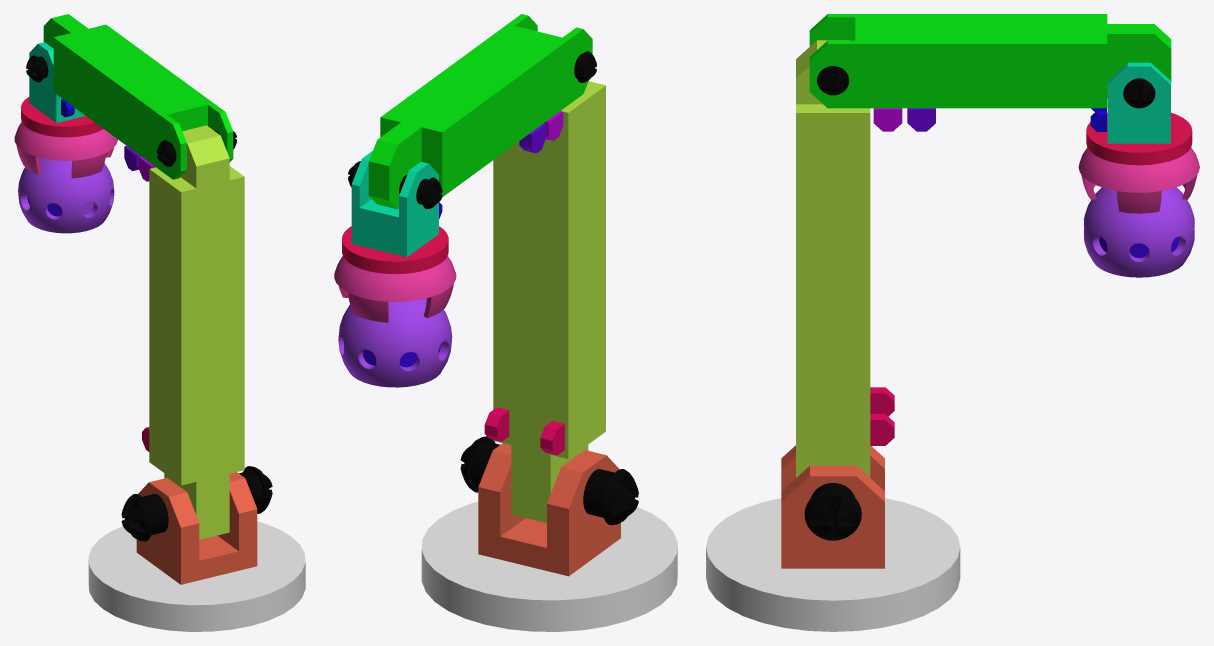
File: ARMMECH.fbx
The picture shows the model from 3 angles, left to right: view 1: azimuth 30°, elevation 25°; view 2: azimuth 150°, elevation 25°; view 3: azimuth 270°, elevation 25°; orthographic projection. The views are drawn at different scales.
Visible parts, largest first — view 1: Cube, Plane.001, Circle, Plane, Sphere, Circle.002, Cylinder, Plane.002, Circle.001, Cylinder.005, Cylinder.006; view 2: Cube, Plane.001, Circle, Plane, Sphere, Plane.002, Circle.002, Cylinder, Circle.001, Plane.003, Cylinder.006, Cylinder.005 (+1 smaller); view 3: Plane.001, Cube, Circle, Plane, Sphere, Circle.002, Plane.002, Circle.001, Cylinder, Plane.003, Cylinder.006, Cylinder.005.
Part boxes in pixels (x1,y1,x2,y2): Cube: (149,125,244,539); Plane.001: (43,14,233,179); Circle: (88,521,305,631); Plane: (136,472,257,584); Sphere: (18,157,114,233); Circle.002: (14,122,117,178); Cylinder: (121,466,272,541); Plane.002: (29,42,85,122); Circle.001: (21,97,102,137); Cylinder.005: (157,130,236,166); Cylinder.006: (26,55,48,82); Cube: (493,81,605,522); Plane.001: (368,14,592,209); Circle: (421,501,677,631); Plane: (478,443,620,576); Sphere: (338,298,452,387); Plane.002: (351,151,438,257); Circle.002: (334,256,456,322); Cylinder: (460,436,638,525); Circle.001: (342,226,448,274); Plane.003: (484,407,564,455); Cylinder.006: (348,161,442,209); Cylinder.005: (574,51,596,82); Plane.001: (809,14,1171,108); Cube: (796,40,870,477); Circle: (706,498,960,631); Plane: (781,445,884,568); Sphere: (1083,187,1194,277); Circle.002: (1078,147,1199,213); Plane.002: (1107,62,1170,143); Circle.001: (1086,112,1192,165); Cylinder: (804,483,861,540); Plane.003: (870,387,894,445); Cylinder.006: (1123,78,1155,108); Cylinder.005: (817,66,849,95).
Bounding box in the file's own units: 200 × 477 × 388.
